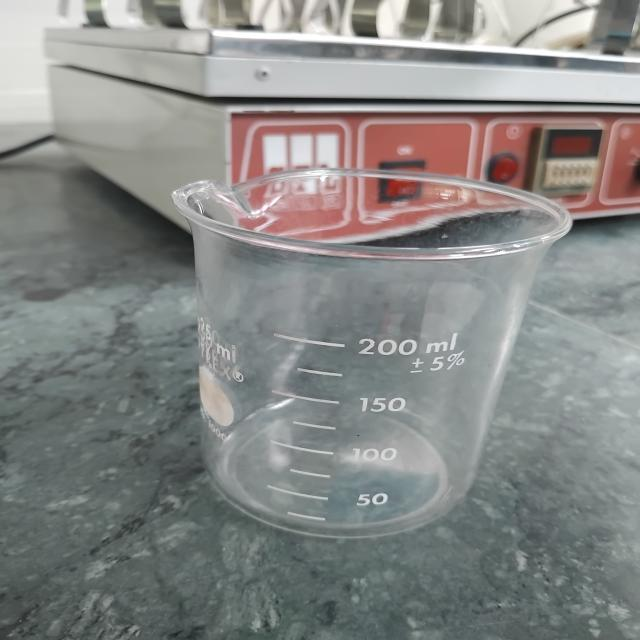Beaker: (129, 146, 586, 564)
